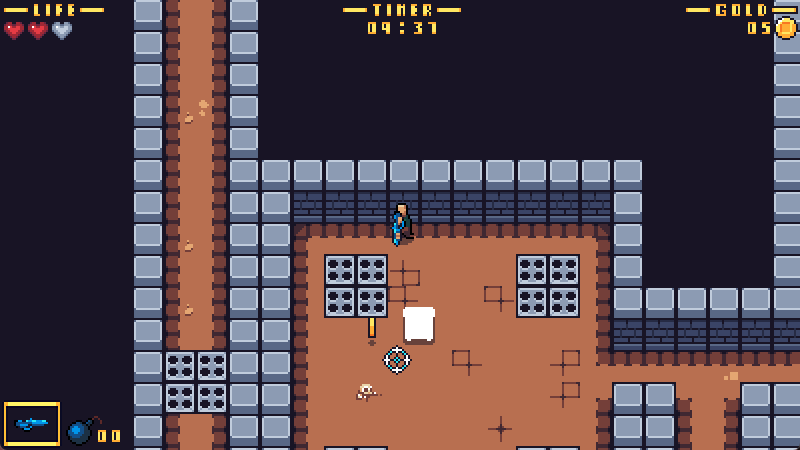aim: (384, 347, 410, 374)
bomb_counter_0: (64, 412, 121, 450)
gold: (366, 315, 377, 339)
gold_counter: (685, 1, 800, 40)
health-2: (1, 20, 76, 44)
player: (390, 199, 415, 248)
timer: (339, 1, 462, 38)
trap_off: (325, 254, 387, 316), (515, 255, 577, 317), (165, 352, 227, 414)
treasury_monster_hit: (402, 305, 437, 341)
